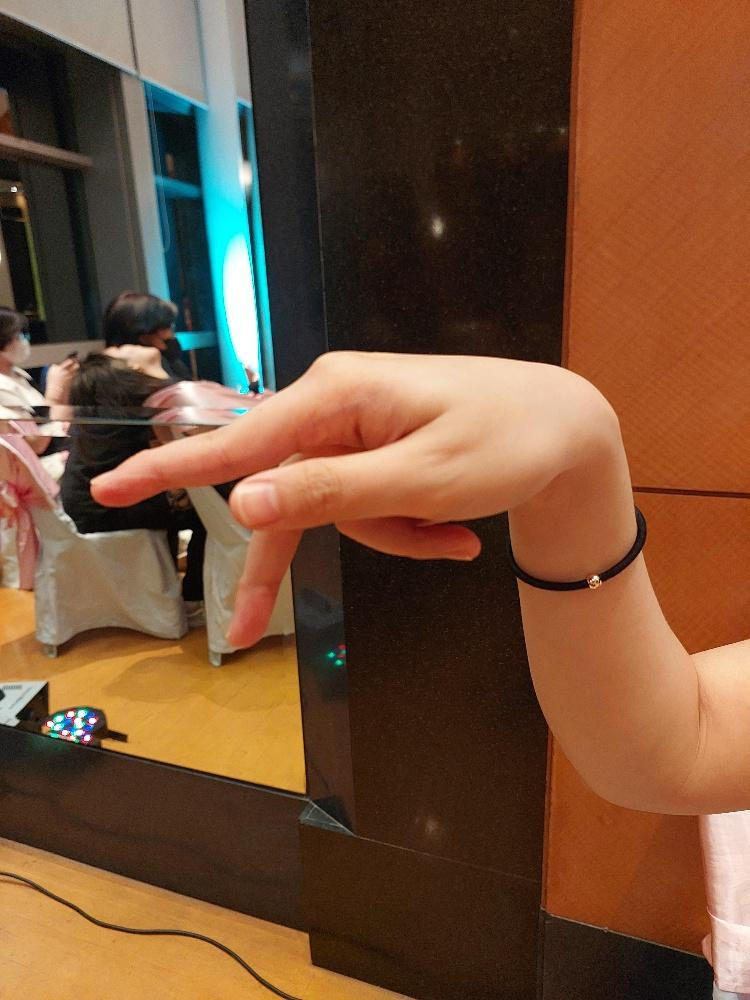p: (86, 343, 568, 655)
